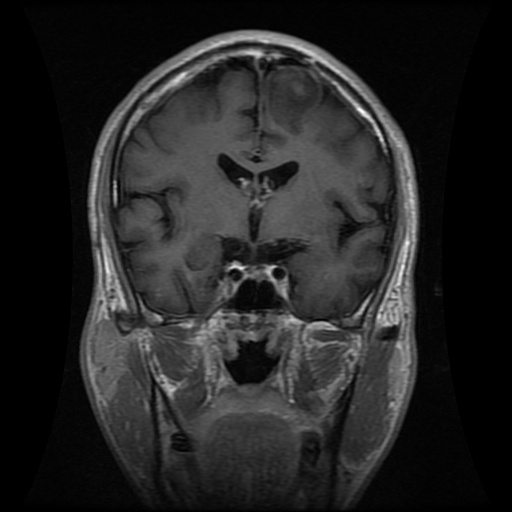glioma: (264, 65, 319, 134)
